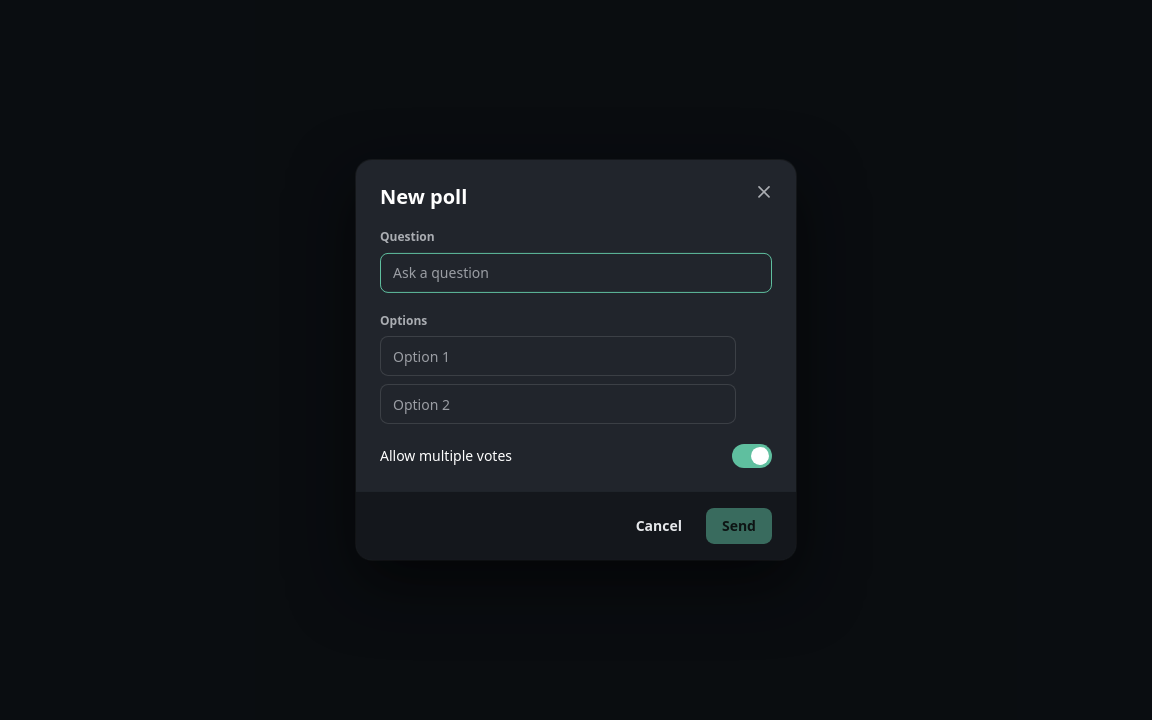
Test: <PollCreateDialog /> › keeps Send off until something is typed
This screenshot has width=1152, height=720.
Check: the button "Send" is disabled, box [706,508,772,544]
Step 1. Type "Pizza" into the field labelled "Option 1" → (558, 356), box [393,337,723,375]
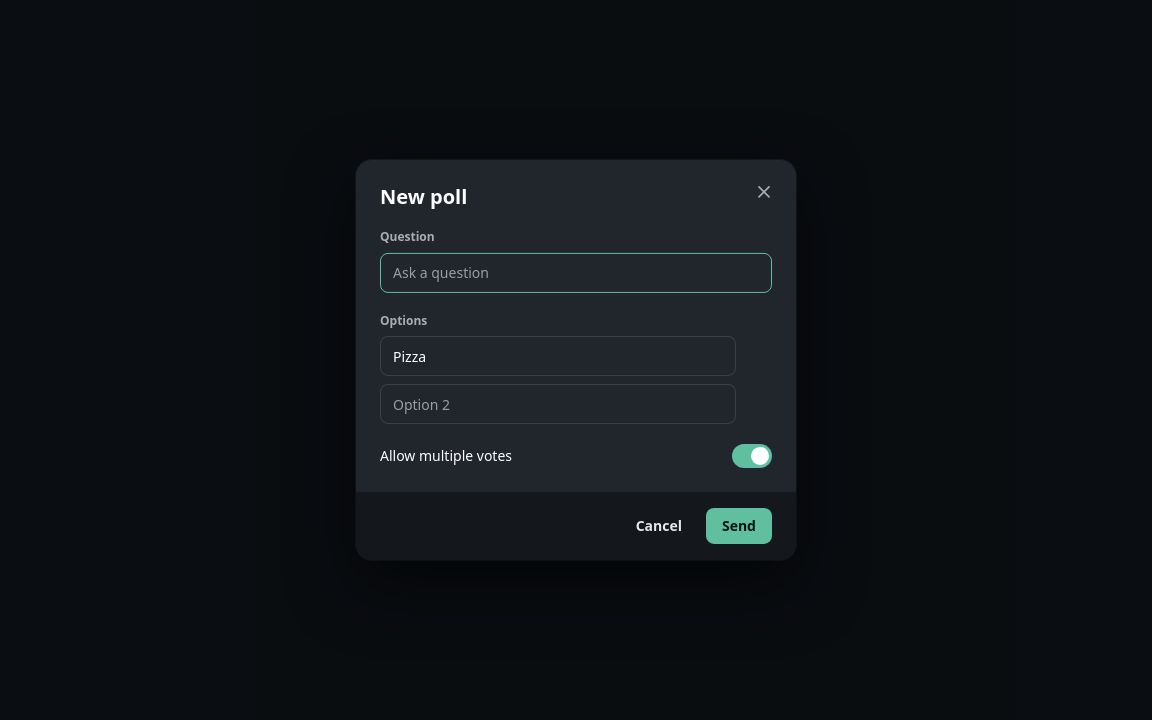
Check: the button "Send" is enabled, box [706,508,772,544]
